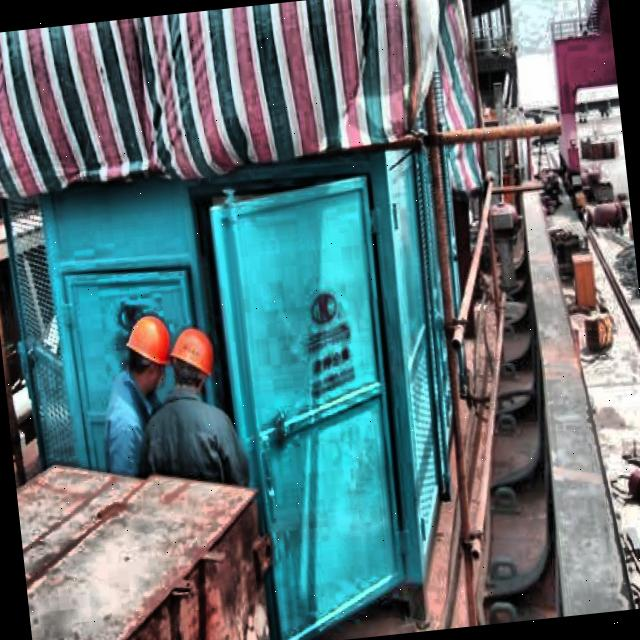helmet: (121, 308, 178, 398), (162, 323, 217, 399)
